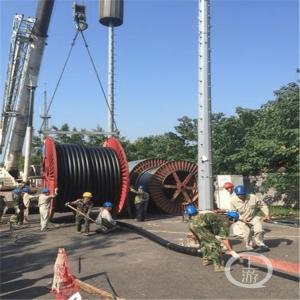blue: (226, 212, 240, 225), (235, 187, 248, 200), (186, 207, 199, 218), (103, 202, 114, 212), (42, 189, 51, 197), (138, 186, 146, 192), (14, 191, 22, 197), (24, 189, 31, 195)
red: (224, 183, 235, 193)
yellow: (82, 192, 94, 202)
